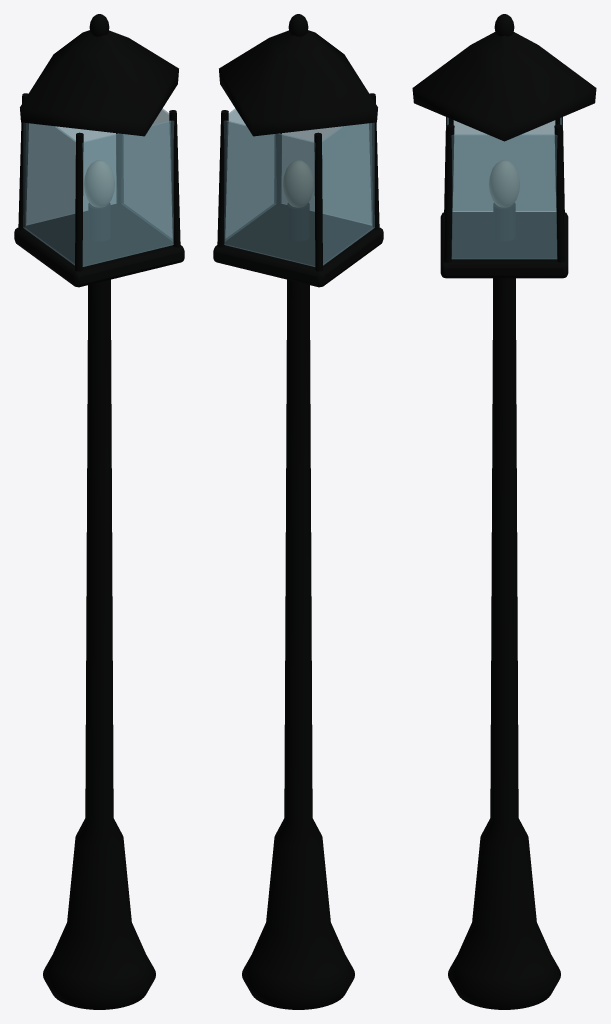
Rendered from LampPost.fbx.
The picture shows the model from 3 angles, left to right: view 1: azimuth 30°, elevation 25°; view 2: azimuth 150°, elevation 25°; view 3: azimuth 270°, elevation 25°; orthographic projection.
Parts seen in each view (by area): view 1: LampPost__Body, LampPost__Glass; view 2: LampPost__Body, LampPost__Glass; view 3: LampPost__Body, LampPost__Glass.
Boxes of the visible parts, bbox=[...] form: LampPost__Body: bbox=[14, 14, 184, 1009]; LampPost__Glass: bbox=[23, 108, 173, 266]; LampPost__Body: bbox=[213, 14, 383, 1009]; LampPost__Glass: bbox=[224, 108, 374, 266]; LampPost__Body: bbox=[412, 14, 596, 1009]; LampPost__Glass: bbox=[447, 117, 561, 259].
Size of the model in its own units: 36.4 by 213 by 36.4.
2 materials, 1 textured.
